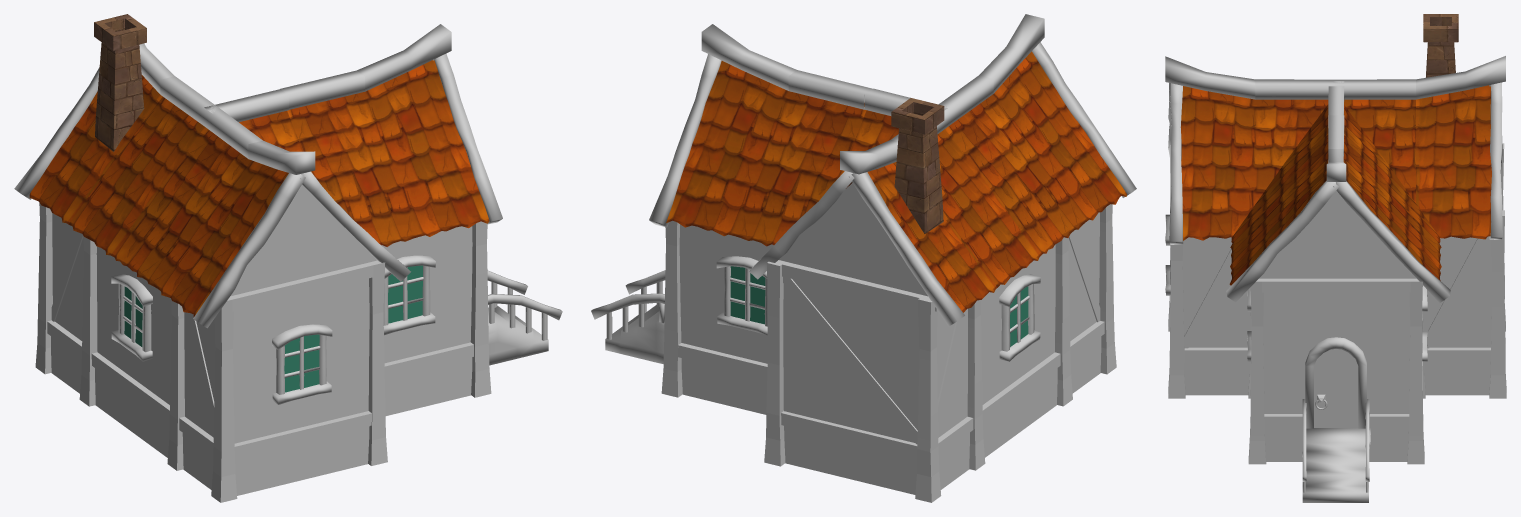
Rendered from house2_before.fbx.
The picture shows the model from 3 angles, left to right: view 1: azimuth 30°, elevation 25°; view 2: azimuth 150°, elevation 25°; view 3: azimuth 270°, elevation 25°; orthographic projection. The views are drawn at different scales.
Parts seen in each view (by area): view 1: TopTileMidS.016; view 2: TopTileMidS.016; view 3: TopTileMidS.016.
Boxes of the visible parts, box(x1,y1,x2,y2) form: TopTileMidS.016: box(14, 14, 562, 502); TopTileMidS.016: box(591, 14, 1136, 502); TopTileMidS.016: box(1165, 14, 1506, 502).
Size of the model in its own units: 16156 by 12511 by 11913.
